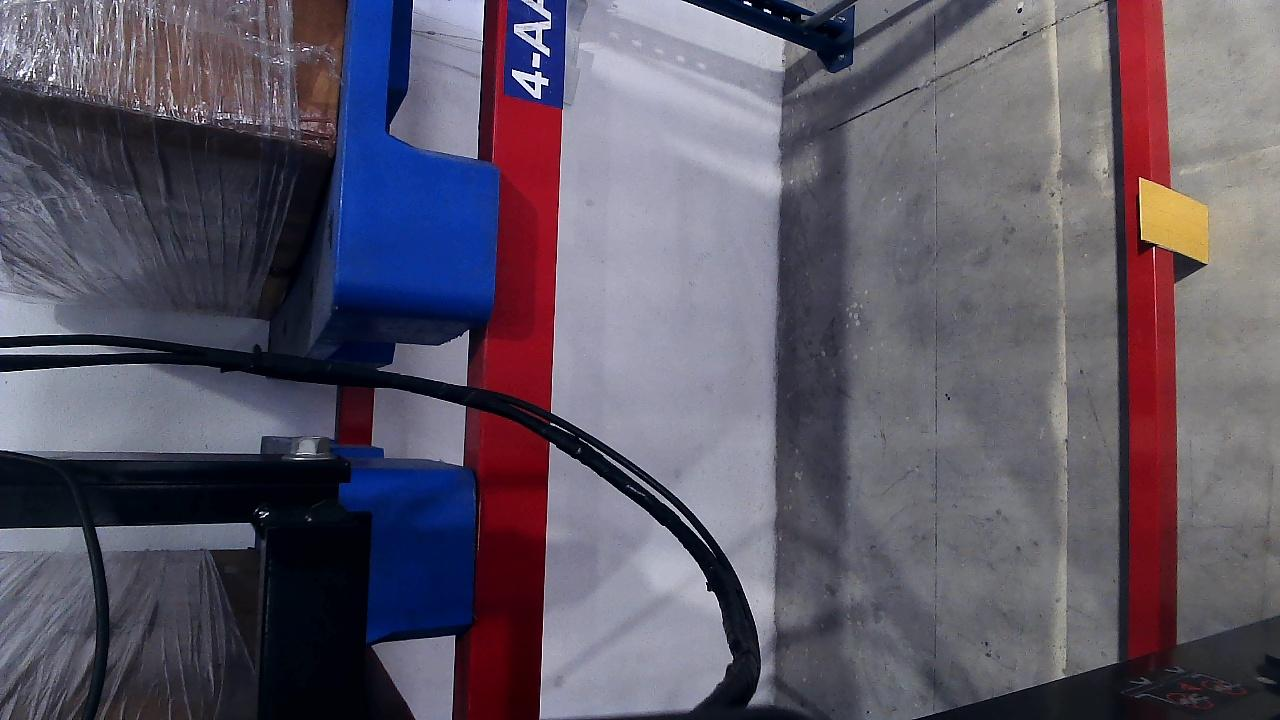h_rack: (474, 0, 546, 720), (1124, 0, 1175, 659)
orange_strip: (1139, 176, 1208, 264)
small_pallet: (339, 0, 501, 305)
